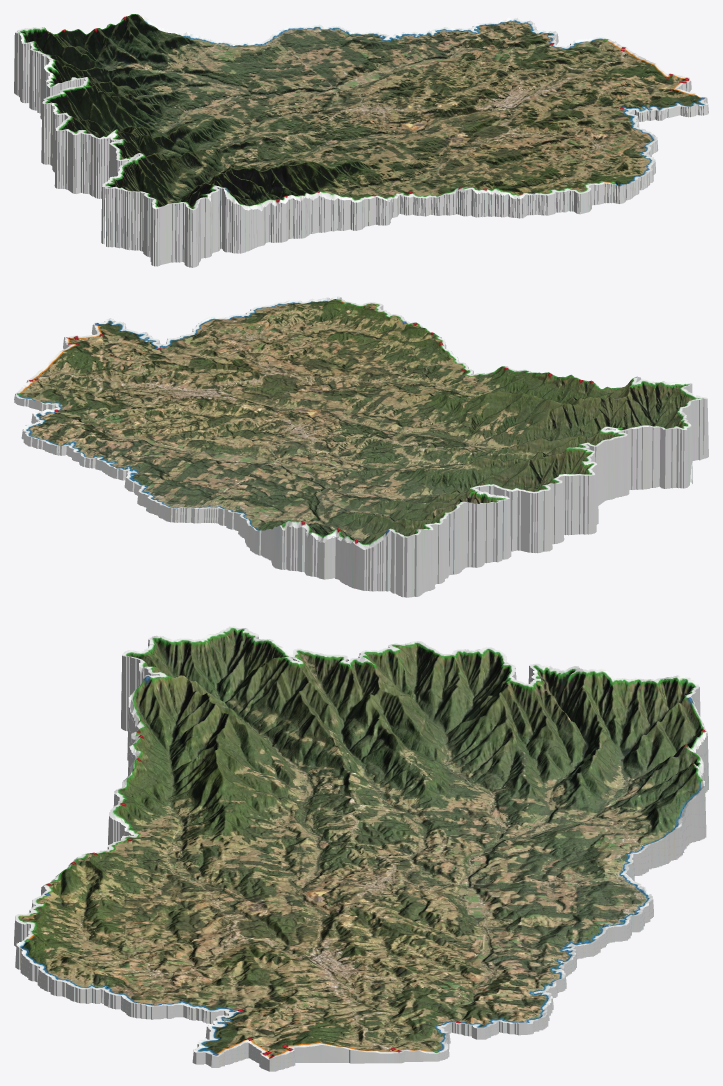
3 views of the same model, one above another, from view 1: azimuth 30°, elevation 25°; view 2: azimuth 150°, elevation 25°; view 3: azimuth 270°, elevation 25° (orthographic). The views are drawn at different scales.
Bounding box in the file's own units: 1 × 0.1023 × 0.7883.
Materials: 1 (1 with a texture image).
